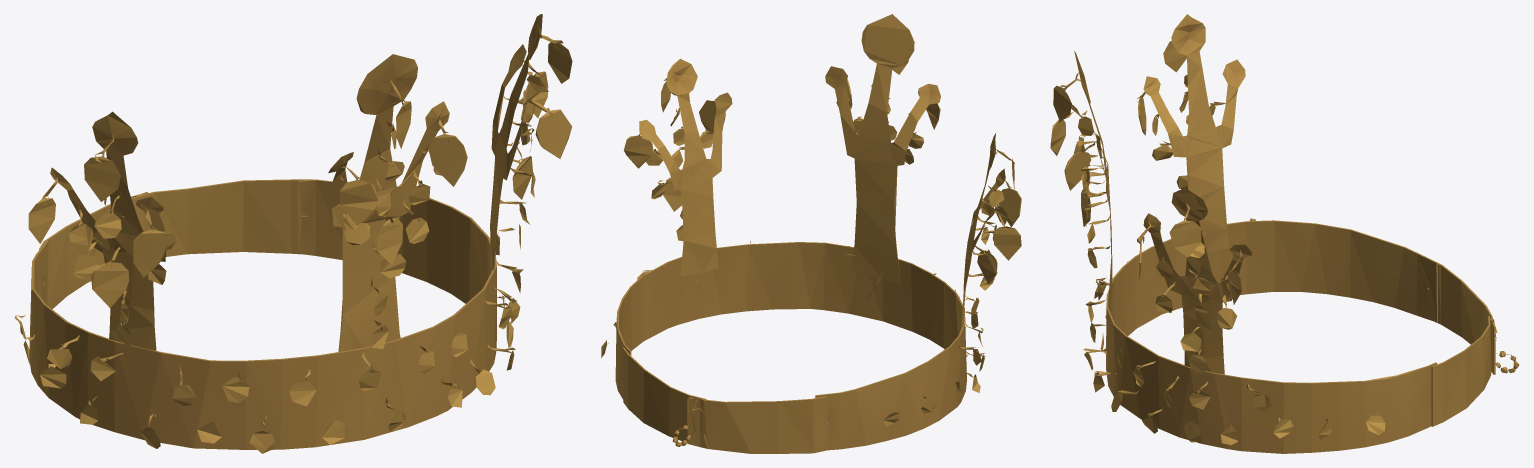
Rendered from gold_crown_from_gyo_dong_f788dc73.glb.
The picture shows the model from 3 angles, left to right: view 1: azimuth 30°, elevation 25°; view 2: azimuth 150°, elevation 25°; view 3: azimuth 270°, elevation 25°; orthographic projection. The views are drawn at different scales.
Parts seen in each view (by area): view 1: SM_ShillaCrown_04_M_ShillaCrown_04_0; view 2: SM_ShillaCrown_04_M_ShillaCrown_04_0; view 3: SM_ShillaCrown_04_M_ShillaCrown_04_0.
Boxes of the visible parts, bbox=[...] form: SM_ShillaCrown_04_M_ShillaCrown_04_0: bbox=[14, 14, 572, 453]; SM_ShillaCrown_04_M_ShillaCrown_04_0: bbox=[601, 14, 1021, 453]; SM_ShillaCrown_04_M_ShillaCrown_04_0: bbox=[1050, 14, 1519, 453].
Bounding box in the file's own units: 0.1809 × 0.1302 × 0.1721.
